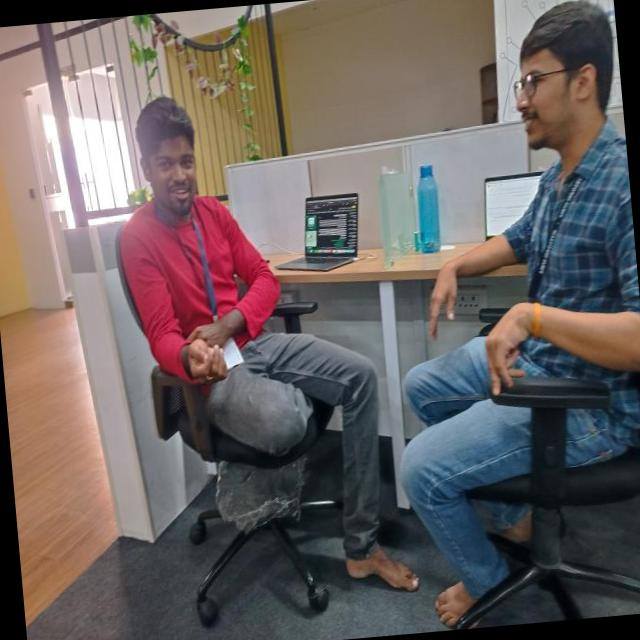id_card: (162, 192, 252, 370), (504, 170, 576, 306)
